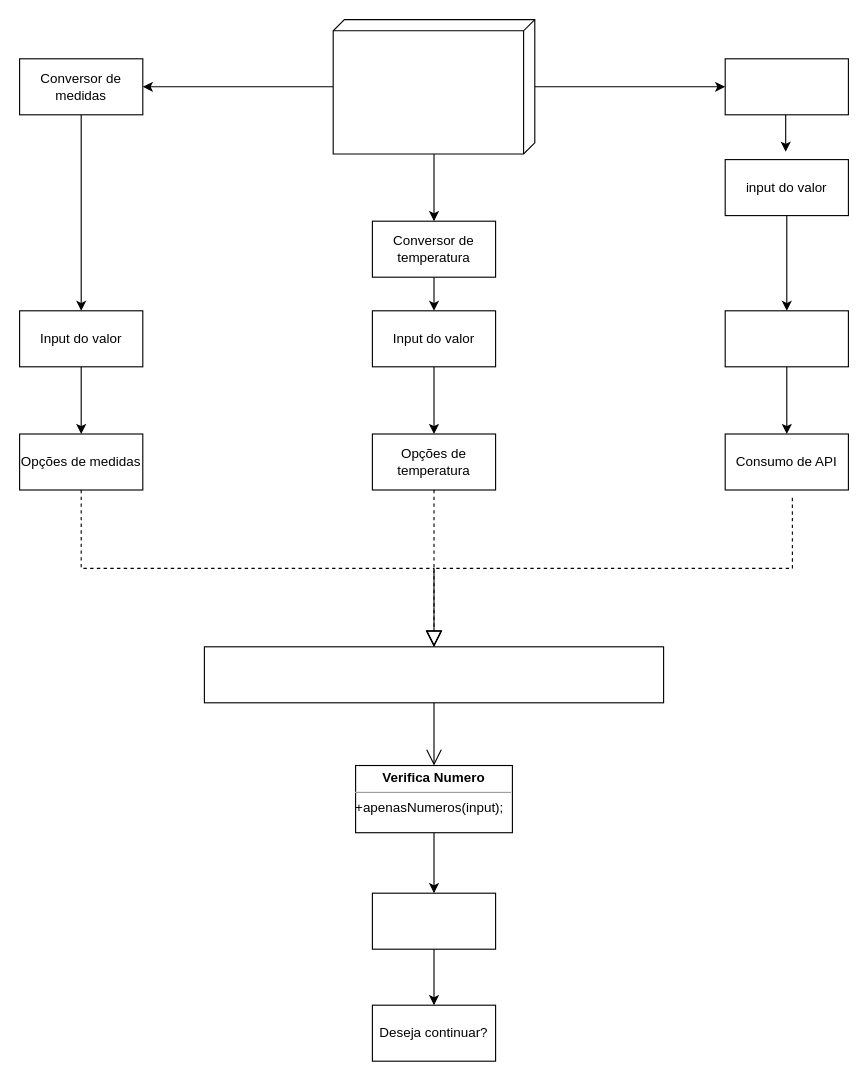
This 868x1081 diagram has some shape labels left out. Each missing label, with the box of its shape:
Conversor de moeds: (724, 58, 848, 115)
Menu central Todas as opçoes de conversores: (332, 18, 535, 154)
Mostrar valor: (371, 892, 496, 949)
Opções de moedas: (724, 310, 848, 367)
«interface» Conversor: (203, 646, 664, 703)
